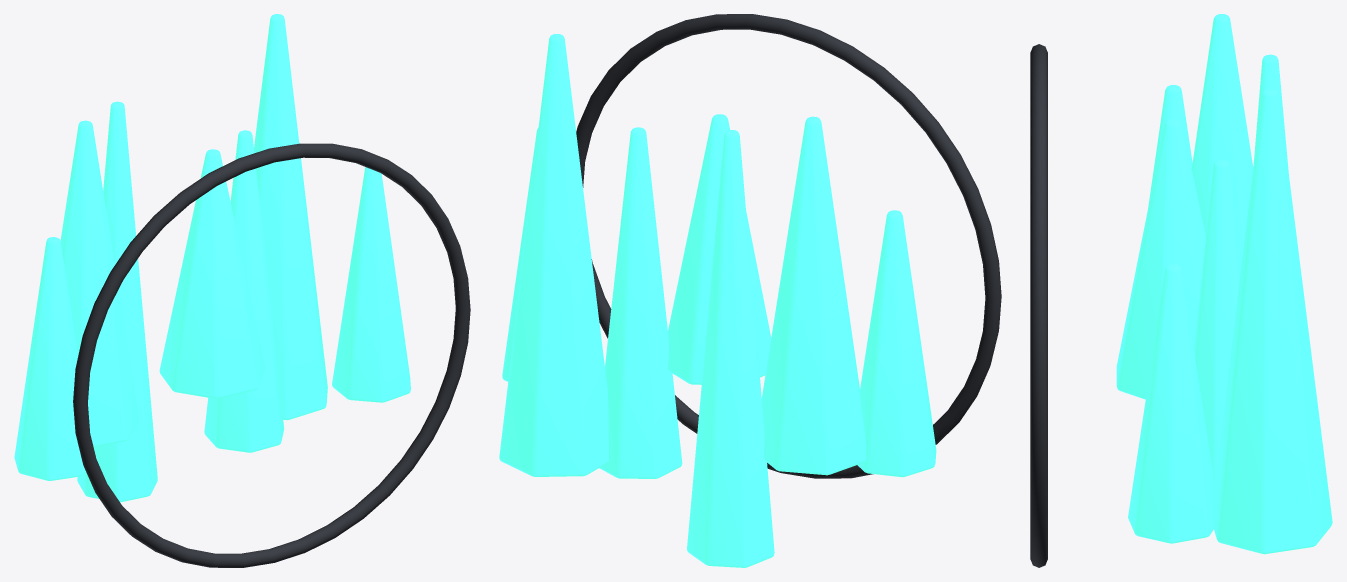
Rendered from env_crystal.glb.
3 views of the same model, side by side, from view 1: azimuth 30°, elevation 25°; view 2: azimuth 150°, elevation 25°; view 3: azimuth 270°, elevation 25° (orthographic). The views are drawn at different scales.
Visible parts, largest first — view 1: ink-root, crystal5, crystal3, crystal1, crystal6, crystal0, crystal2, crystal4; view 2: crystal5, crystal1, crystal2, crystal4, ink-root, crystal0, crystal3, crystal6; view 3: crystal5, crystal6, crystal3, ink-root, crystal4, crystal1, crystal0, crystal2.
Part boxes in pixels (bbox=[...]): ink-root: bbox=[73, 143, 470, 567]; crystal5: bbox=[254, 14, 327, 420]; crystal3: bbox=[159, 149, 265, 398]; crystal1: bbox=[60, 120, 139, 446]; crystal6: bbox=[332, 167, 410, 402]; crystal0: bbox=[14, 237, 85, 480]; crystal2: bbox=[77, 101, 157, 502]; crystal4: bbox=[204, 130, 284, 452]; crystal5: bbox=[499, 34, 608, 476]; crystal1: bbox=[761, 116, 866, 475]; crystal2: bbox=[687, 130, 774, 567]; crystal4: bbox=[599, 127, 682, 478]; ink-root: bbox=[576, 14, 1001, 478]; crystal0: bbox=[857, 210, 936, 477]; crystal3: bbox=[668, 114, 771, 384]; crystal6: bbox=[502, 127, 538, 381]; crystal5: bbox=[1214, 88, 1332, 554]; crystal6: bbox=[1128, 263, 1219, 543]; crystal3: bbox=[1116, 118, 1205, 399]; ink-root: bbox=[1030, 44, 1047, 567]; crystal4: bbox=[1194, 159, 1241, 484]; crystal1: bbox=[1191, 14, 1253, 262]; crystal0: bbox=[1148, 85, 1192, 205]; crystal2: bbox=[1253, 54, 1288, 170].
Size of the model in its own units: 2.38 by 2.57 by 1.37.
